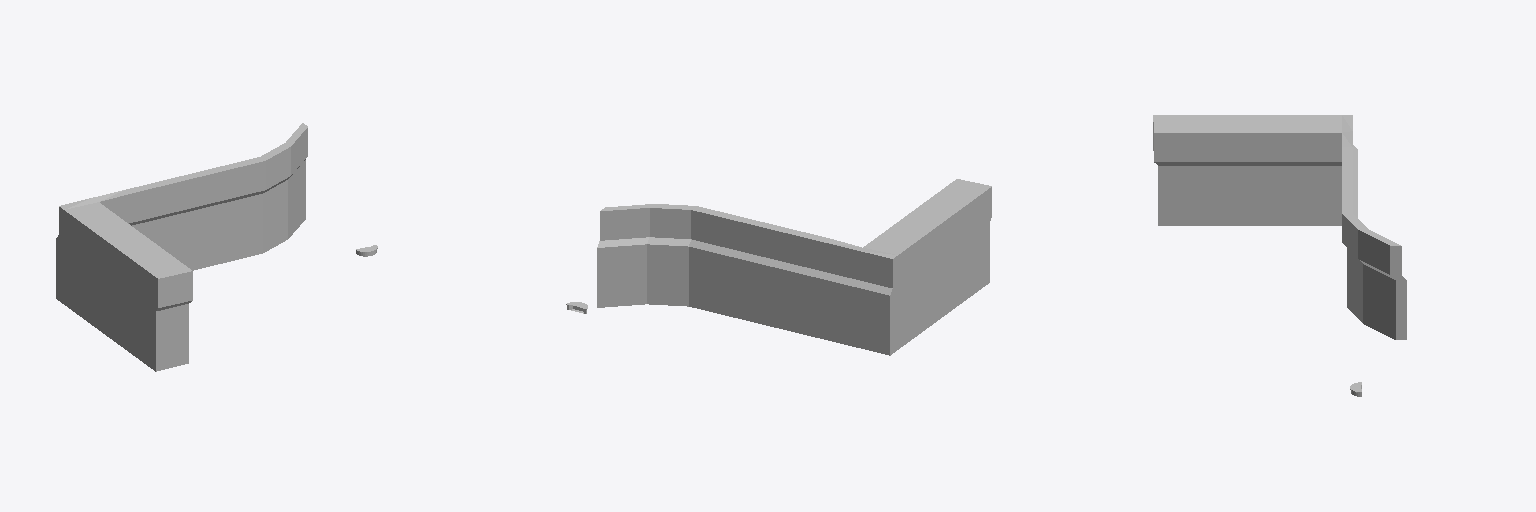
Rendered from Wall.obj.
The picture shows the model from 3 angles: view 1: azimuth 30°, elevation 25°; view 2: azimuth 150°, elevation 25°; view 3: azimuth 270°, elevation 25°; orthographic projection.
Visible parts, largest first — view 1: Cube_Cube.004; view 2: Cube_Cube.004; view 3: Cube_Cube.004.
Boxes of the visible parts, x1,y1,x2,y2 form: Cube_Cube.004: [56, 123, 307, 371]; Cube_Cube.004: [597, 179, 991, 355]; Cube_Cube.004: [1153, 115, 1406, 339].
Bounding box in the file's own units: 33.71 × 12.54 × 22.96.